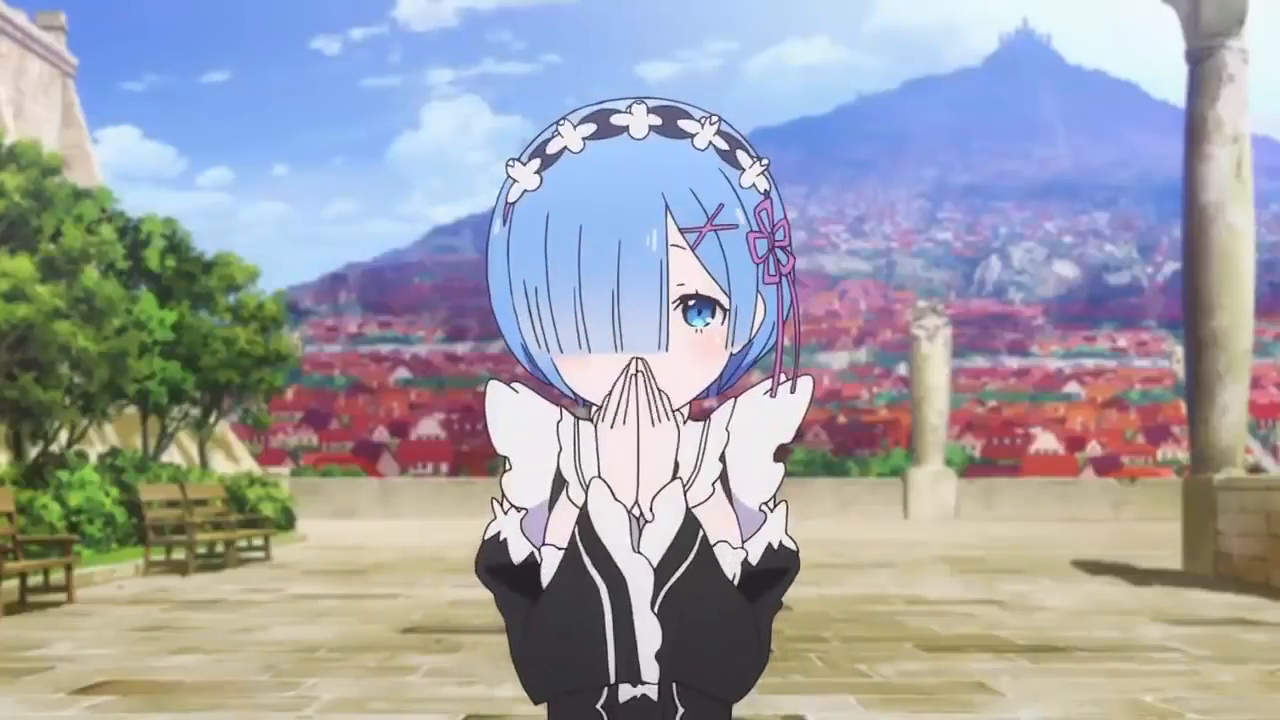REM: (480, 95, 799, 411)
